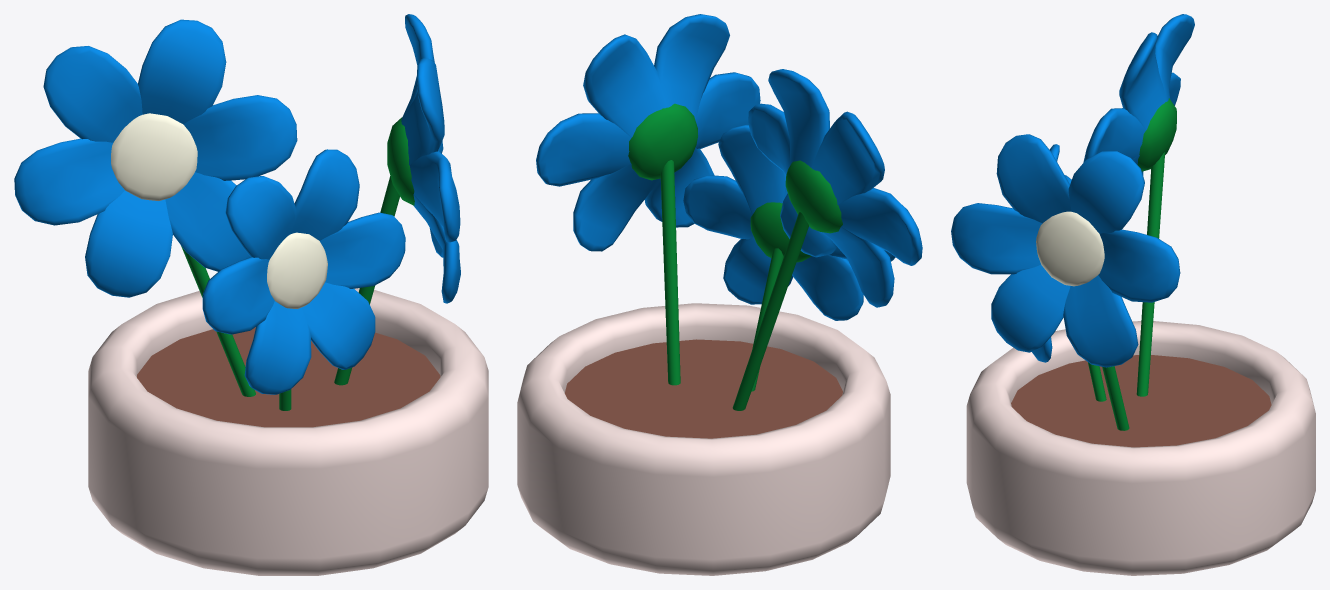
Rendered from Farm_14_Flowers_1.glb.
The picture shows the model from 3 angles, left to right: view 1: azimuth 30°, elevation 25°; view 2: azimuth 150°, elevation 25°; view 3: azimuth 270°, elevation 25°; orthographic projection. The views are drawn at different scales.
Parts seen in each view (by area): view 1: Farm_14_Flowers_1; view 2: Farm_14_Flowers_1; view 3: Farm_14_Flowers_1.
Boxes of the visible parts, bbox=[...] form: Farm_14_Flowers_1: bbox=[14, 14, 488, 575]; Farm_14_Flowers_1: bbox=[517, 14, 922, 575]; Farm_14_Flowers_1: bbox=[951, 14, 1315, 575].
Bounding box in the file's own units: 0.7678 × 0.856 × 0.6543.
Materials: 1 (1 with a texture image).
